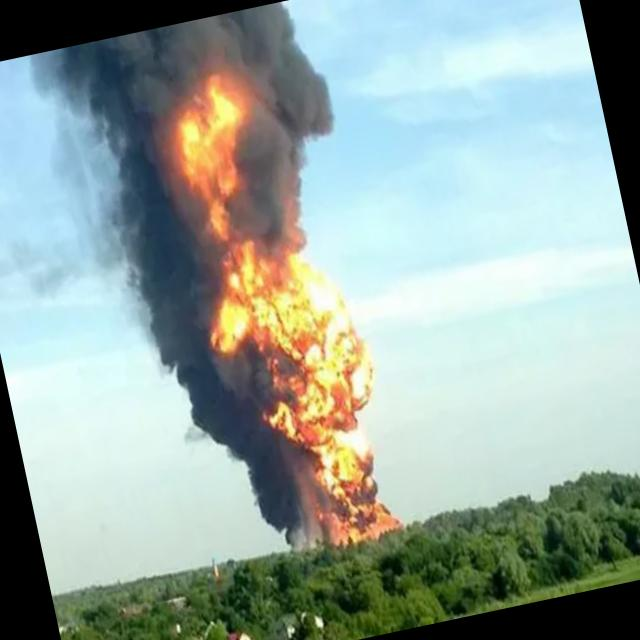Smoke: (27, 0, 485, 579)
